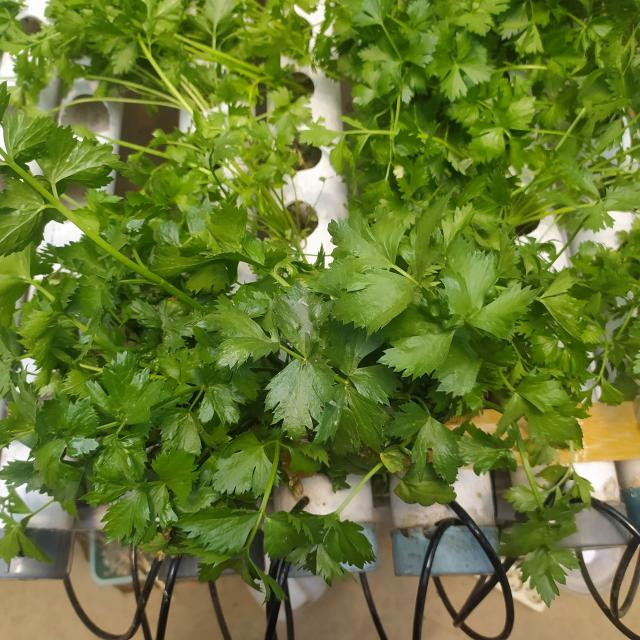Wet Waste: (7, 138, 640, 572), (322, 3, 640, 125), (6, 6, 313, 126)
